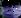with_mask: (1, 1, 21, 18)
